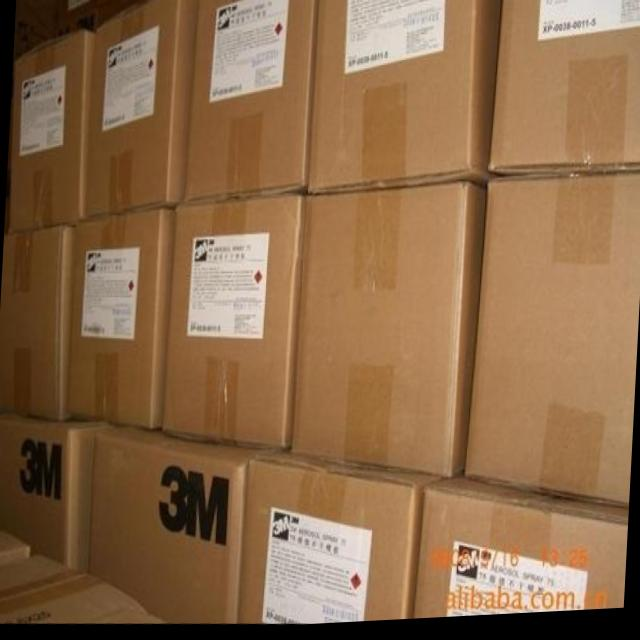box: (288, 185, 489, 483), (465, 177, 640, 515), (305, 0, 504, 198), (88, 425, 278, 625), (159, 197, 307, 452), (236, 451, 444, 626), (413, 478, 628, 623), (486, 0, 640, 184), (185, 0, 316, 203), (85, 0, 198, 220), (67, 210, 177, 433), (0, 413, 108, 573), (10, 32, 96, 232), (0, 224, 78, 423), (0, 555, 164, 623), (59, 0, 153, 36), (13, 0, 60, 58), (0, 526, 32, 564)
